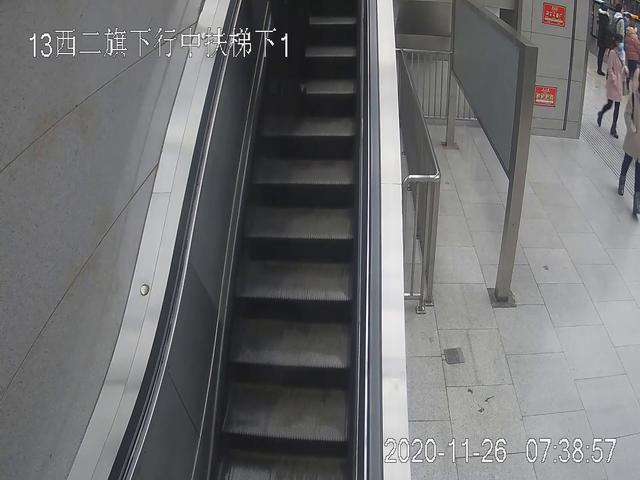person: (599, 35, 626, 134), (593, 3, 612, 77)
